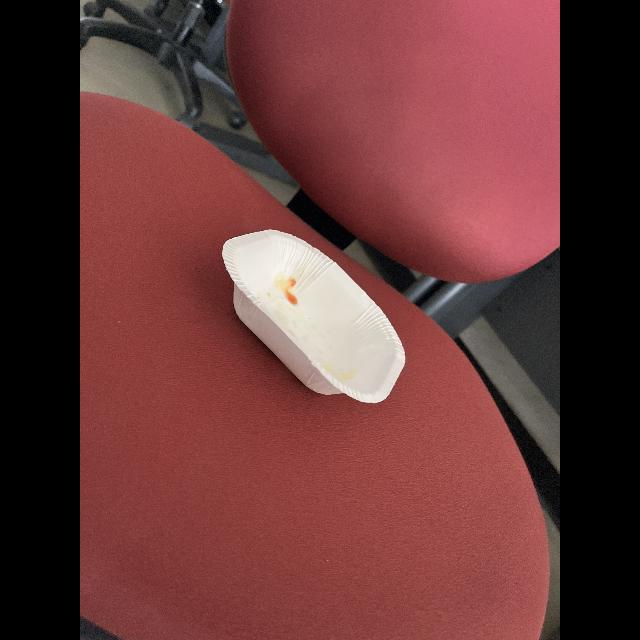cardboard_bowl: (206, 222, 414, 416)
